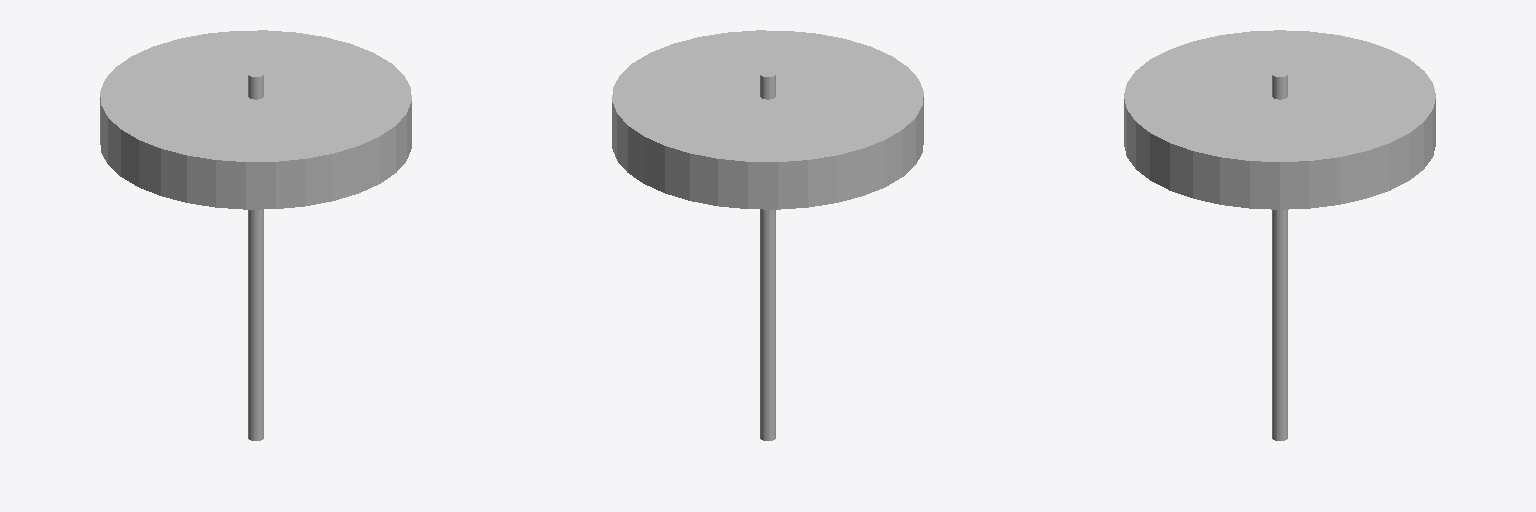
Rendered from gyro.obj.
3 views of the same model, side by side, from view 1: azimuth 30°, elevation 25°; view 2: azimuth 150°, elevation 25°; view 3: azimuth 270°, elevation 25° (orthographic).
Parts seen in each view (by area): view 1: Cylinder, Cylinder.001; view 2: Cylinder, Cylinder.001; view 3: Cylinder, Cylinder.001.
Part boxes in pixels (x1,y1,x2,y2): Cylinder: (100,30,411,209); Cylinder.001: (248,71,263,440); Cylinder: (612,30,923,209); Cylinder.001: (760,71,775,440); Cylinder: (1124,30,1435,209); Cylinder.001: (1272,71,1287,440).
Bounding box in the file's own units: 0.1991 × 0.256 × 0.1991.